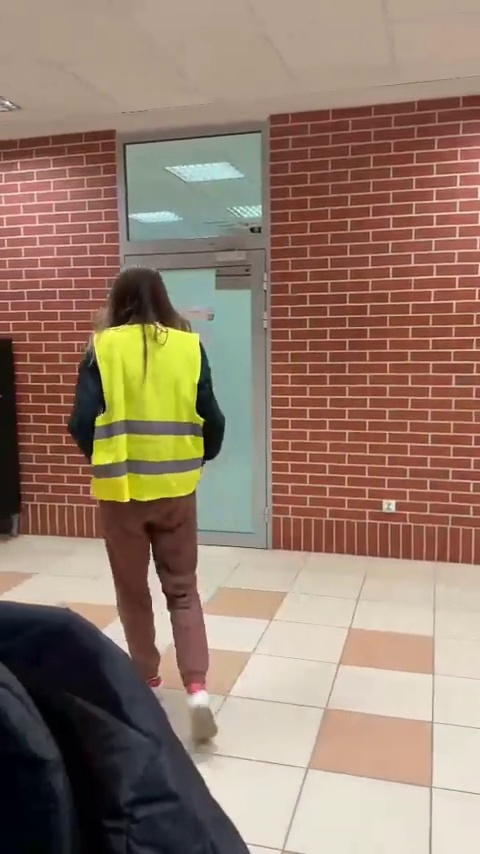vest: (58, 267, 236, 744)
